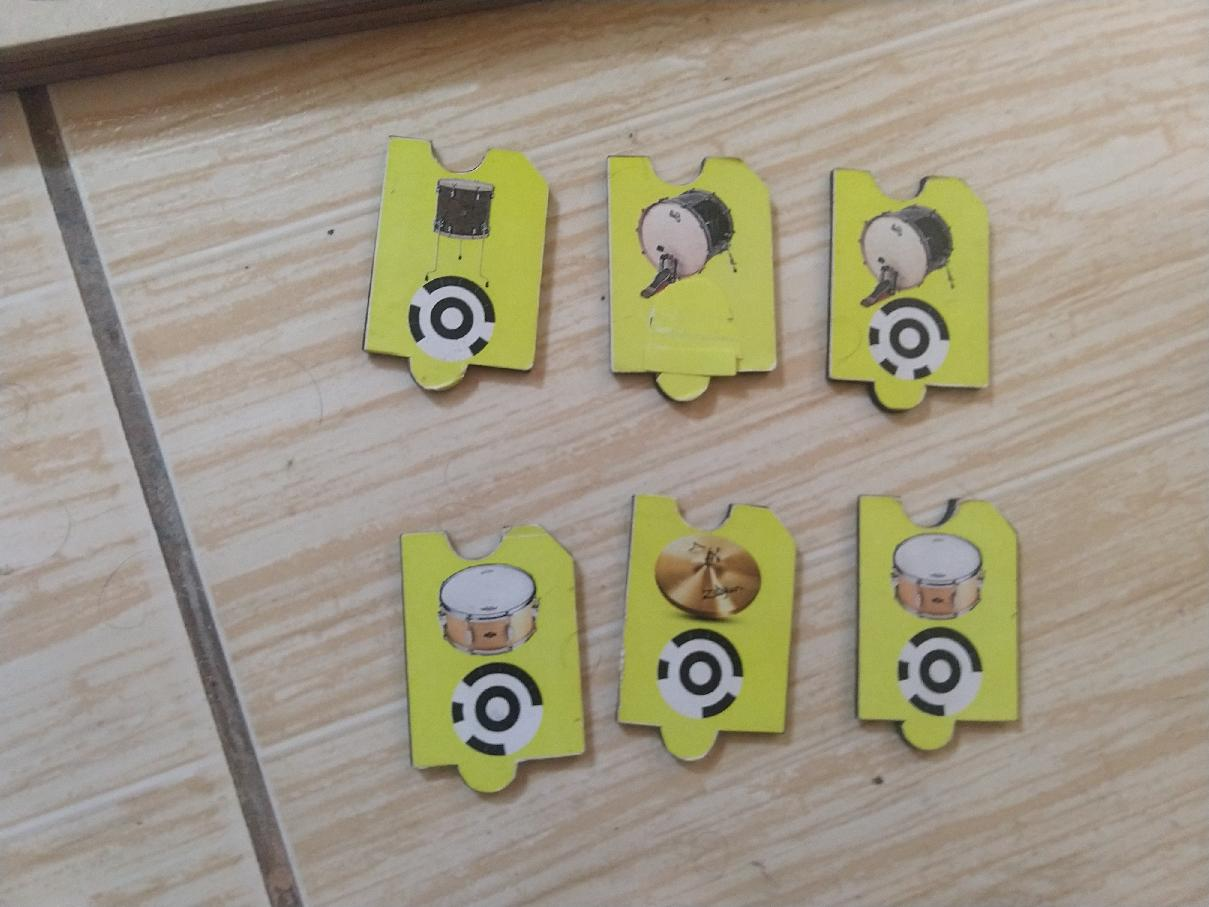bumbo: (603, 152, 781, 411), (818, 164, 995, 419)
